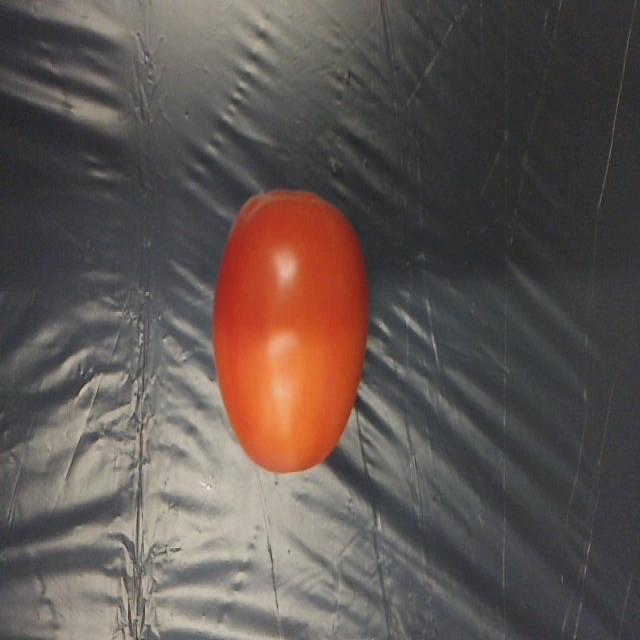sari: (200, 175, 371, 484)
